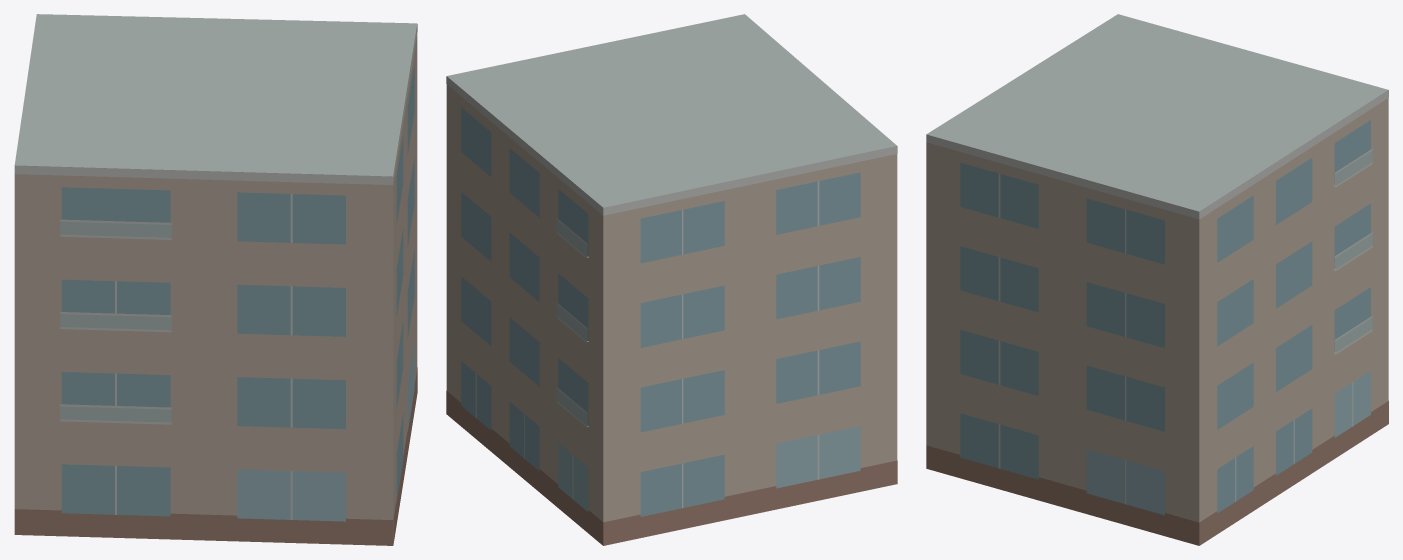
Rendered from survey-upis-32926482.glb.
The picture shows the model from 3 angles, left to right: view 1: azimuth 30°, elevation 25°; view 2: azimuth 150°, elevation 25°; view 3: azimuth 270°, elevation 25°; orthographic projection. The views are drawn at different scales.
Parts seen in each view (by area): view 1: survey-upis-32926482.tmp; view 2: survey-upis-32926482.tmp; view 3: survey-upis-32926482.tmp.
Part boxes in pixels (x1,y1,x2,y2): survey-upis-32926482.tmp: [14, 14, 417, 545]; survey-upis-32926482.tmp: [446, 14, 897, 545]; survey-upis-32926482.tmp: [926, 14, 1388, 545].
Size of the model in its own units: 13.2 by 10.4 by 13.05.
